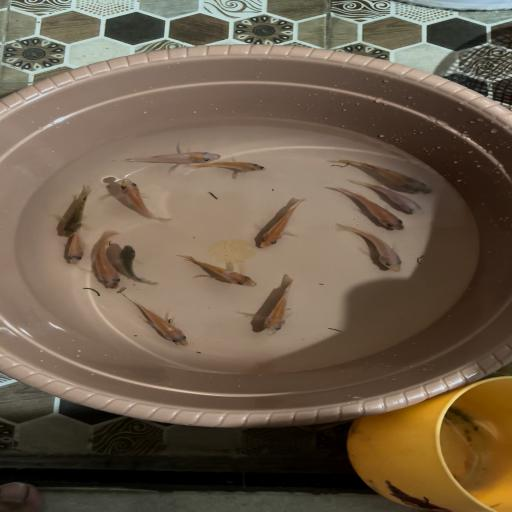nila: (106, 296, 194, 348), (333, 157, 442, 196), (239, 280, 306, 339), (322, 189, 408, 232), (332, 228, 408, 276), (68, 229, 124, 292), (172, 253, 260, 293), (250, 196, 313, 250), (114, 141, 223, 170), (110, 177, 176, 224), (351, 179, 421, 218), (52, 183, 98, 238), (116, 242, 164, 286), (52, 229, 94, 271), (179, 159, 270, 178)
